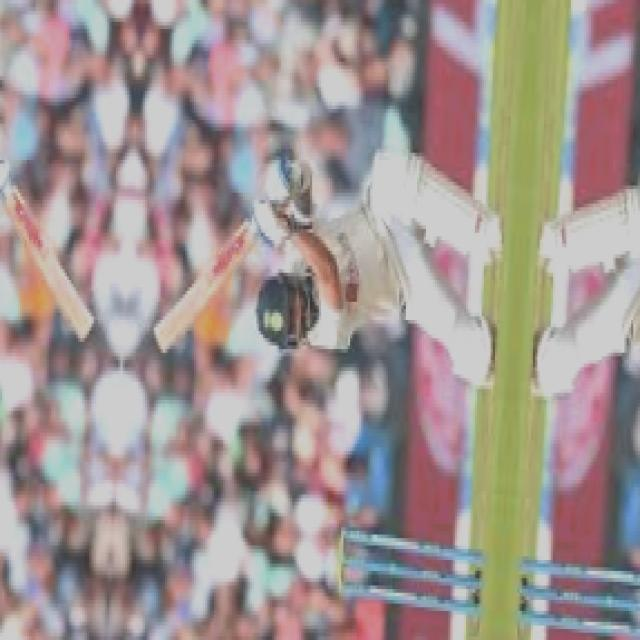bat: (145, 221, 255, 365)
toe: (146, 323, 167, 363)
